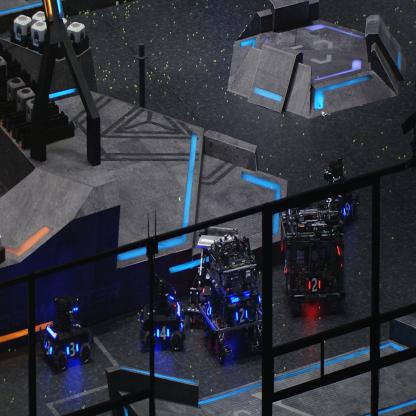car: (198, 236, 263, 364), (280, 202, 346, 311), (186, 224, 241, 325), (38, 292, 92, 370), (140, 272, 186, 352), (315, 157, 359, 226)
